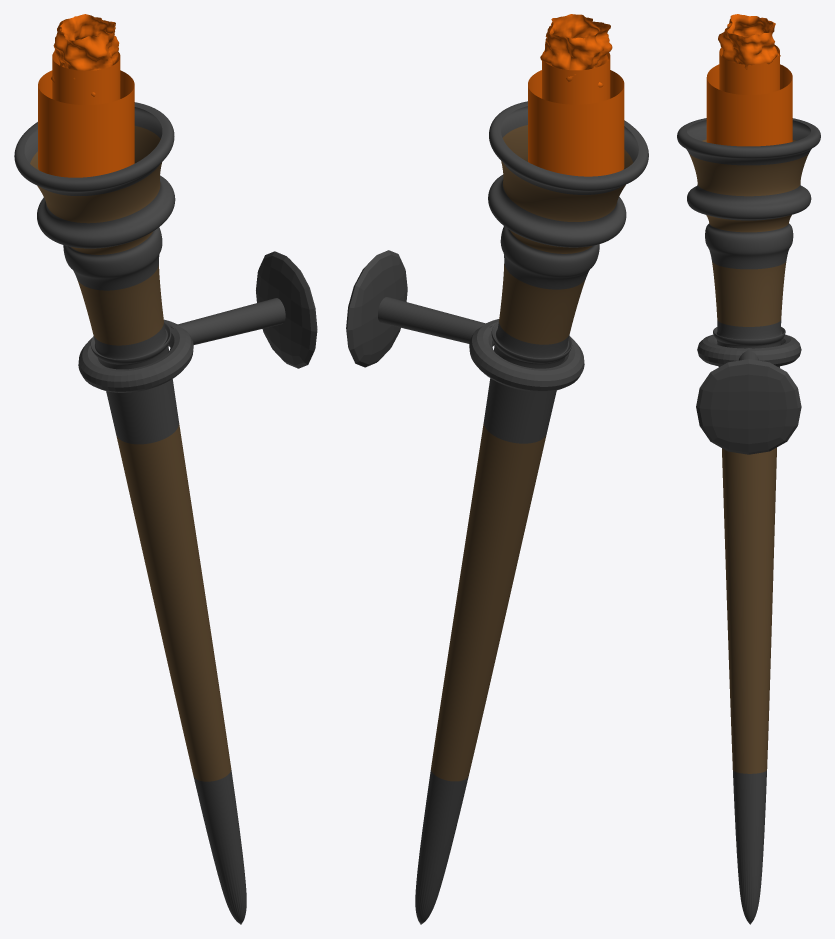
Rendered from newfire.fbx.
3 renders of one model, left to right at view 1: azimuth 30°, elevation 25°; view 2: azimuth 150°, elevation 25°; view 3: azimuth 270°, elevation 25°, orthographic. The views are drawn at different scales.
Visible parts, largest first — view 1: Цилиндр, Куб, Цилиндр.003, Цилиндр.001, Цилиндр.002; view 2: Цилиндр, Куб, Цилиндр.003, Цилиндр.001, Цилиндр.002; view 3: Цилиндр, Куб, Цилиндр.003, Цилиндр.001, Цилиндр.002.
Part boxes in pixels (bbox=[...]): Цилиндр: bbox=[14, 102, 246, 924]; Куб: bbox=[78, 251, 317, 392]; Цилиндр.003: bbox=[38, 70, 134, 177]; Цилиндр.001: bbox=[51, 14, 119, 96]; Цилиндр.002: bbox=[52, 51, 120, 104]; Цилиндр: bbox=[415, 101, 648, 924]; Куб: bbox=[346, 250, 584, 392]; Цилиндр.003: bbox=[528, 70, 624, 176]; Цилиндр.001: bbox=[540, 14, 612, 87]; Цилиндр.002: bbox=[542, 51, 610, 104]; Цилиндр: bbox=[677, 118, 820, 924]; Куб: bbox=[696, 334, 801, 454]; Цилиндр.003: bbox=[706, 64, 792, 146]; Цилиндр.001: bbox=[718, 14, 780, 81]; Цилиндр.002: bbox=[719, 44, 779, 94].
Bounding box in the file's own units: 1469 × 4880 × 765.
